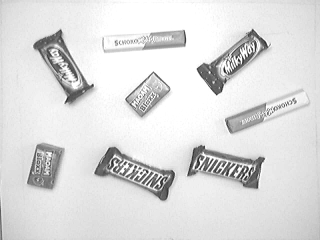Maoam: (123, 68, 173, 119), (25, 141, 66, 192)
Milkyway: (195, 28, 272, 97), (31, 27, 96, 106), (101, 28, 188, 51)
Riegel: (223, 87, 313, 140)
Snickers: (92, 145, 179, 202), (186, 143, 268, 193)
